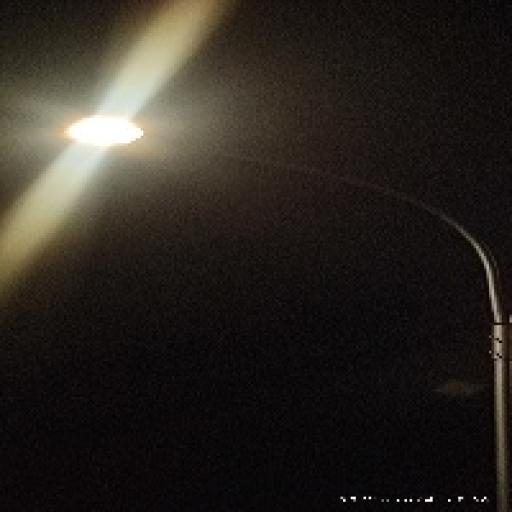Working: (54, 104, 154, 166)
